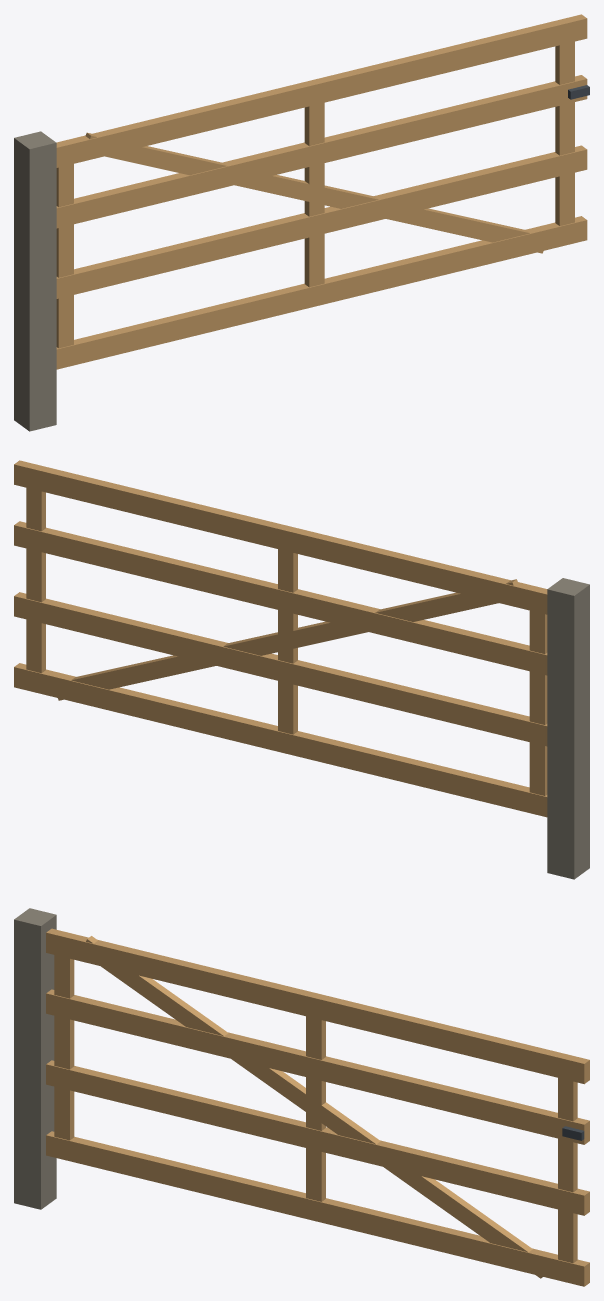
Rendered from GI_Gate_01.glb.
The picture shows the model from 3 angles, top to bottom: view 1: azimuth 30°, elevation 25°; view 2: azimuth 150°, elevation 25°; view 3: azimuth 330°, elevation 25°; orthographic projection.
Parts seen in each view (by area): view 1: GI_Gate_01; view 2: GI_Gate_01; view 3: GI_Gate_01.
Boxes of the visible parts, x1,y1,x2,y2 form: GI_Gate_01: [14, 14, 589, 431]; GI_Gate_01: [14, 460, 589, 879]; GI_Gate_01: [14, 908, 589, 1286].
Bounding box in the file's own units: 2.92 × 1.4 × 0.14.
Materials: 1 (1 with a texture image).
